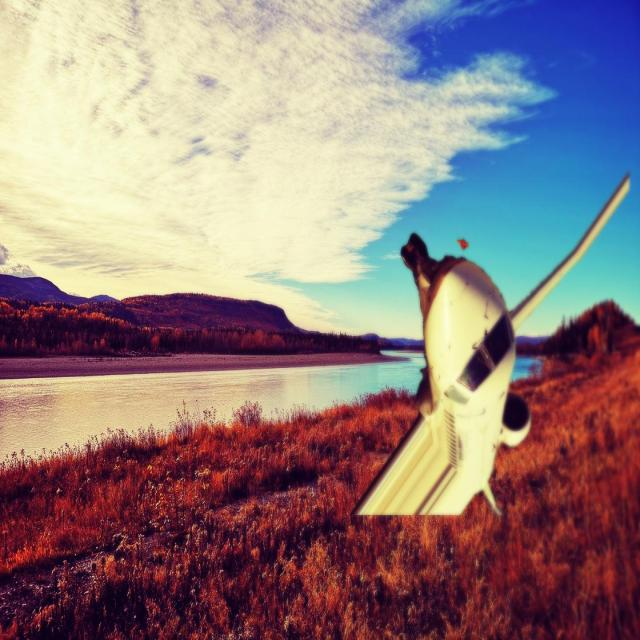airplane: (349, 170, 630, 518)
